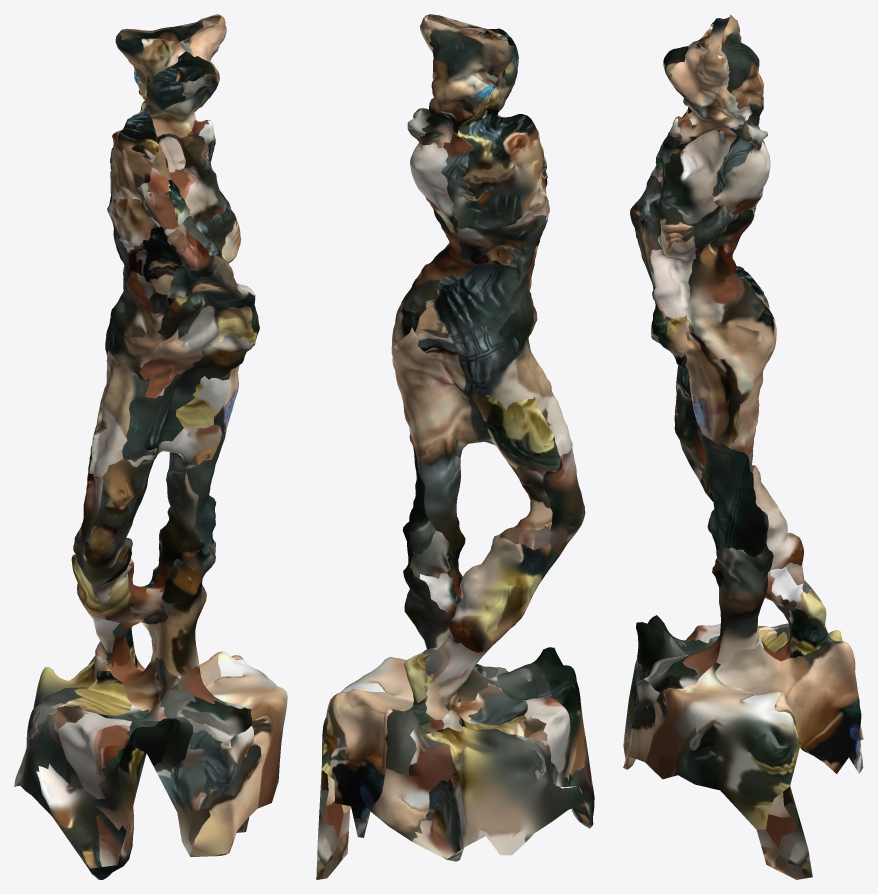
File: baked_mesh.obj
The picture shows the model from 3 angles, left to right: view 1: azimuth 30°, elevation 25°; view 2: azimuth 150°, elevation 25°; view 3: azimuth 270°, elevation 25°; orthographic projection. The views are drawn at different scales.
Parts seen in each view (by area): view 1: g0; view 2: g0; view 3: g0.
Part boxes in pixels (x1,y1,x2,y2): g0: (14,14,287,879); g0: (316,14,594,879); g0: (623,14,863,879).
Size of the model in its own units: 0.4602 by 1.6 by 0.4376.
